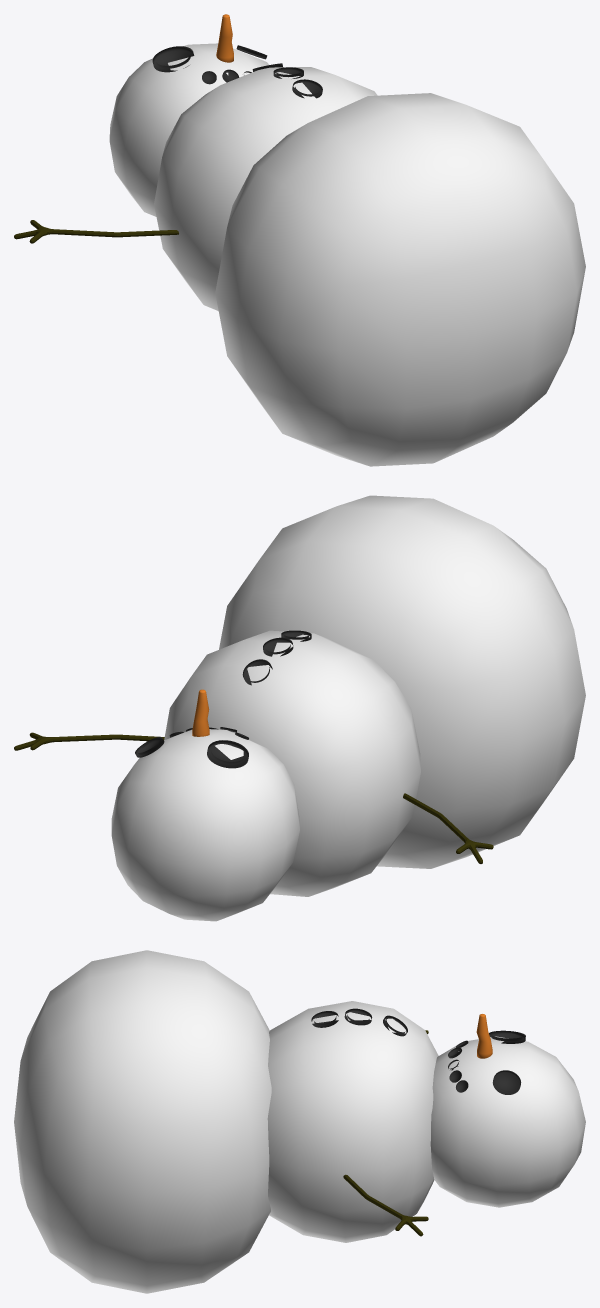
The model's file is SnowManUnityV3.fbx.
3 renders of one model, top to bottom at view 1: azimuth 30°, elevation 25°; view 2: azimuth 150°, elevation 25°; view 3: azimuth 270°, elevation 25°, orthographic. The views are drawn at different scales.
Parts seen in each view (by area): view 1: Cube.003; view 2: Cube.003; view 3: Cube.003.
Boxes of the visible parts, <box> form: Cube.003: <box>14,14,585,466</box>; Cube.003: <box>14,495,585,921</box>; Cube.003: <box>14,950,585,1293</box>.
Bounding box in the file's own units: 3.34 × 2.33 × 3.93.
